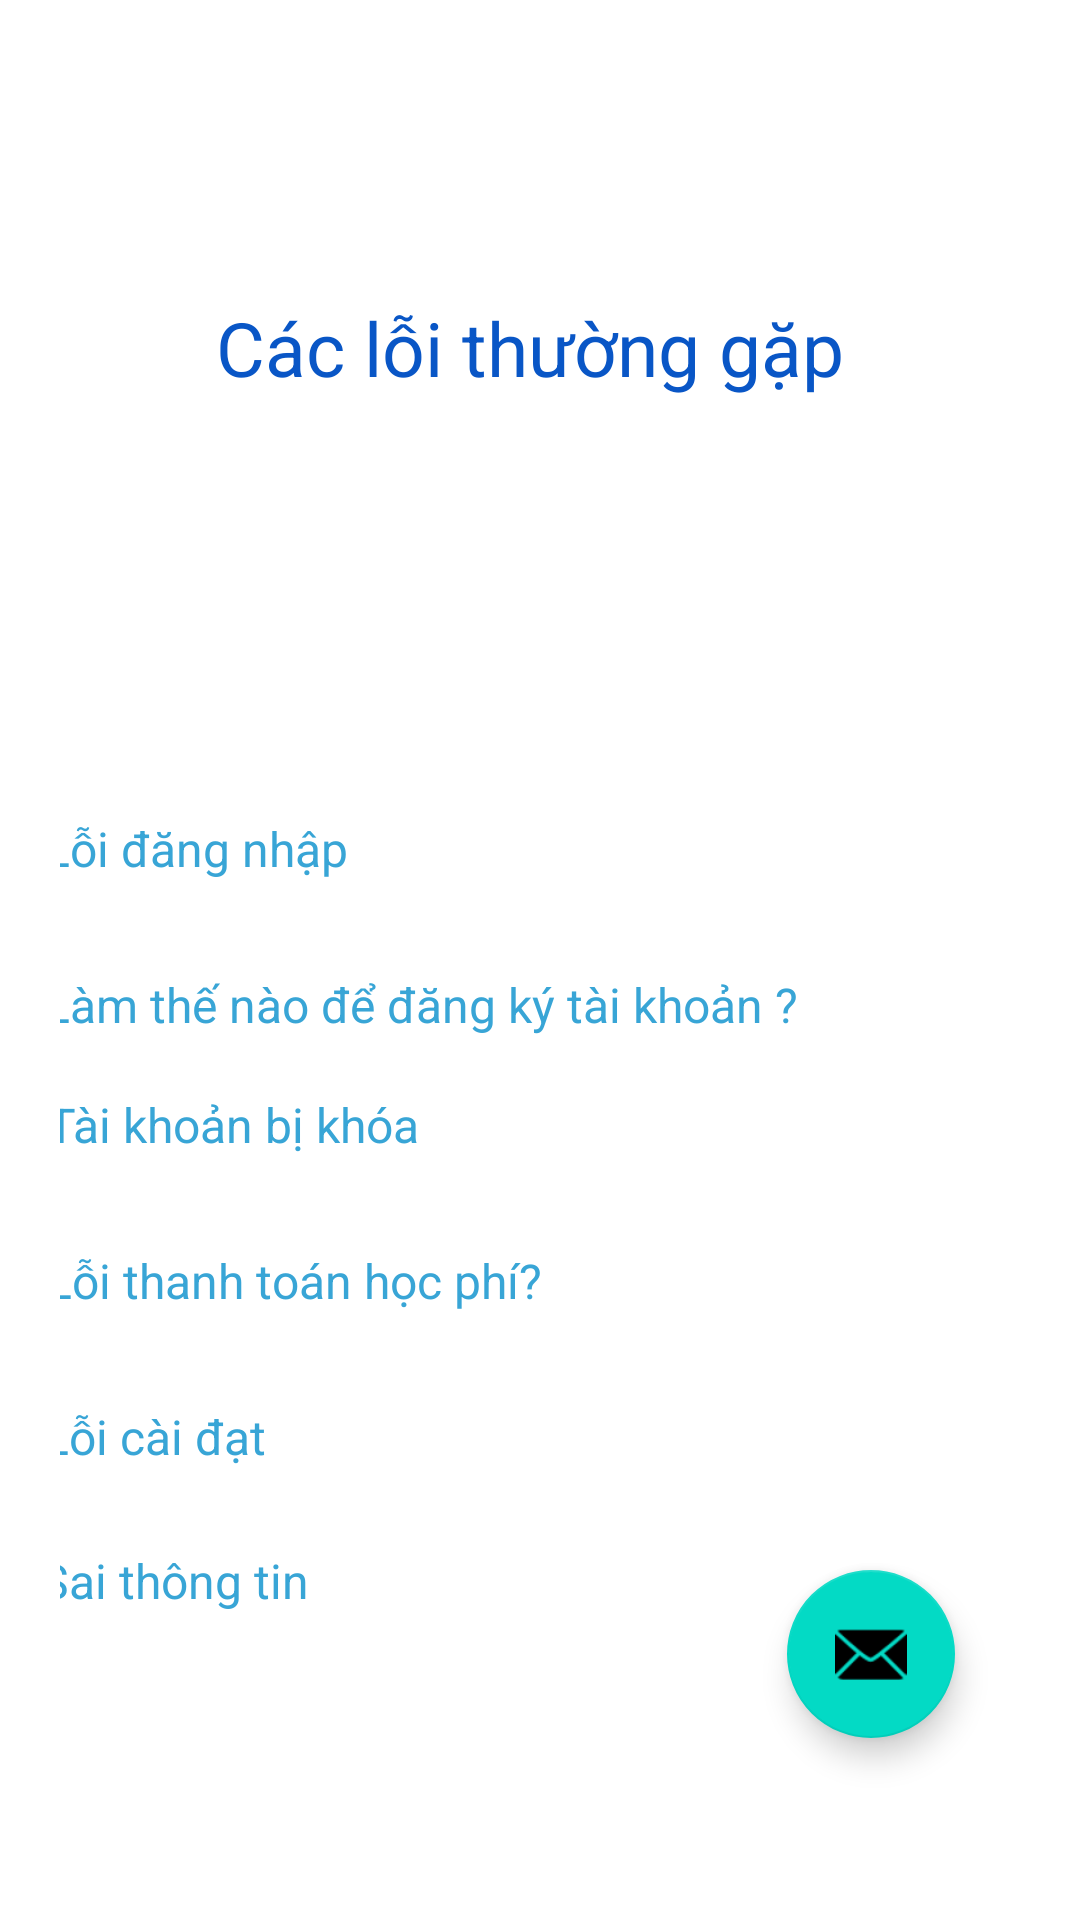

Screen size 1080px×1920px. Icon name, then its box in pixels as (x1, y1, x2, y2):
email: (787, 1570, 955, 1738)
